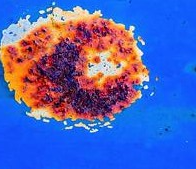Corrosion: (1, 5, 150, 134)
